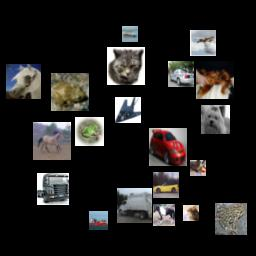airplane: (190, 30, 216, 56), (115, 97, 141, 123)
automobile: (149, 128, 187, 166), (153, 172, 179, 198), (168, 61, 194, 87)
cat: (107, 47, 145, 85), (183, 205, 199, 221)
dog: (196, 61, 234, 99), (201, 105, 230, 134), (190, 160, 206, 176)
frog: (51, 73, 89, 111), (215, 203, 247, 235), (75, 117, 104, 146)
ship: (89, 211, 108, 230), (122, 26, 138, 42)
truck: (117, 188, 152, 223), (37, 173, 69, 205)
